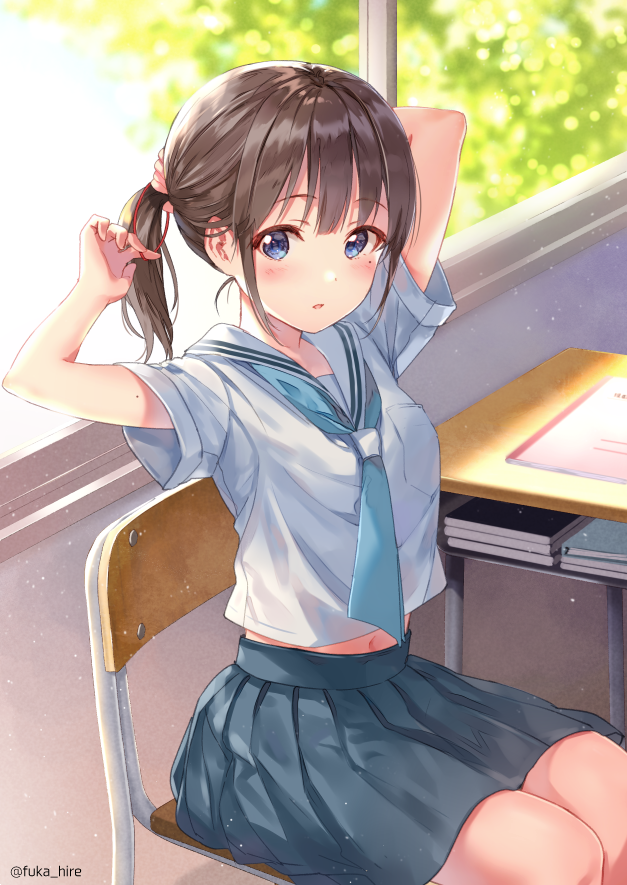纸片人正脸: (144, 51, 444, 344)
